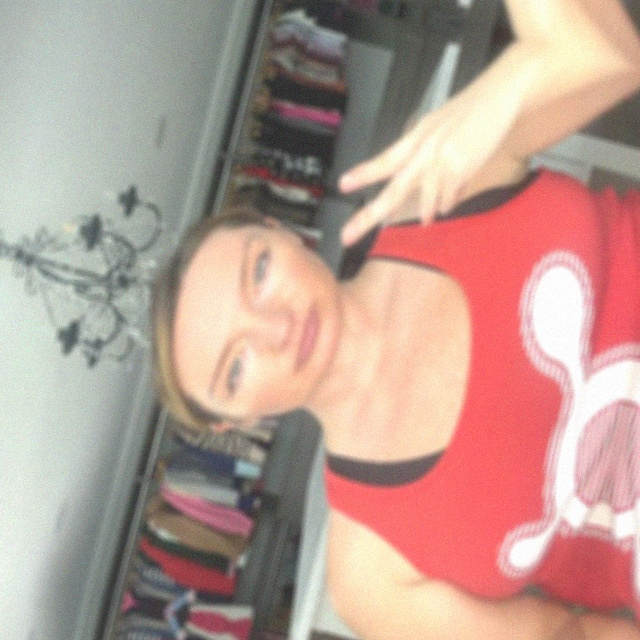Scissors: (326, 15, 515, 271)
